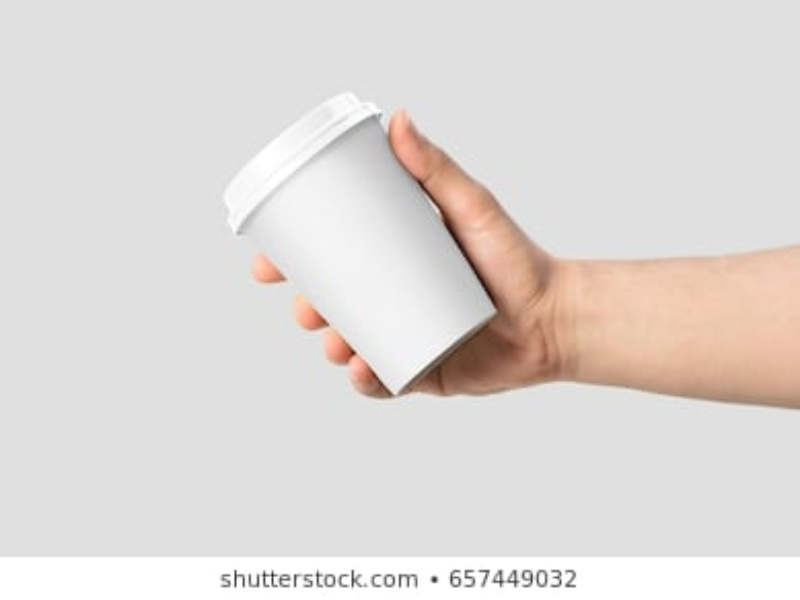coffee-lid: (205, 87, 401, 239)
plastic-cup: (227, 119, 508, 378)
